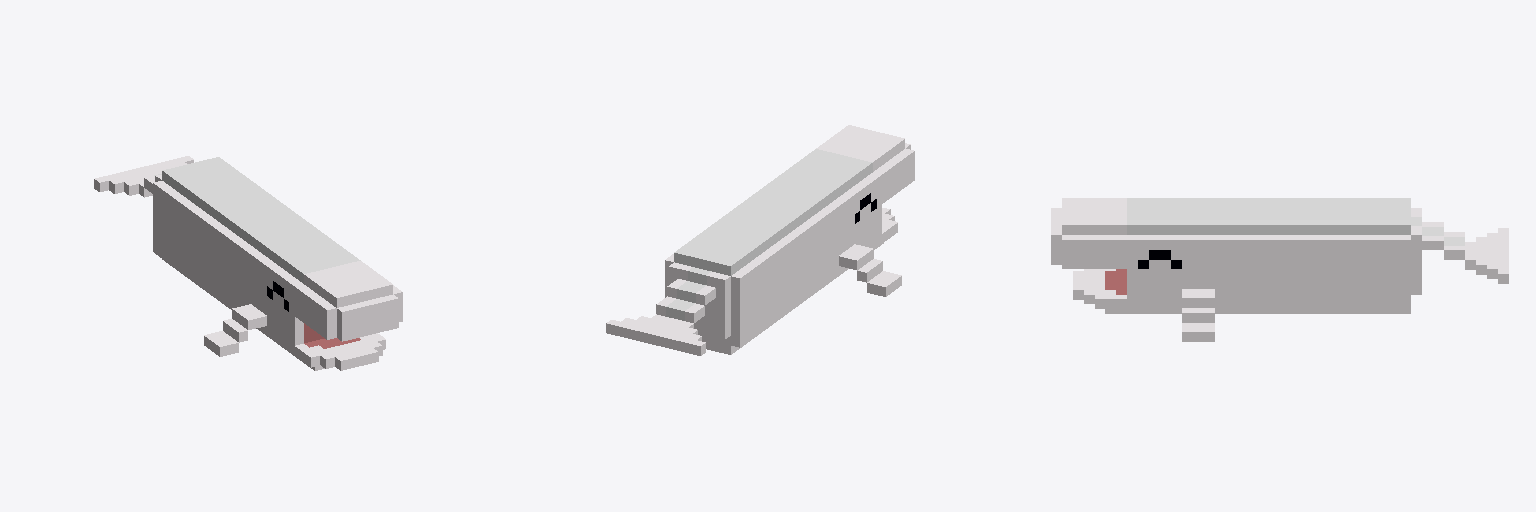
3 renders of one model, left to right at view 1: azimuth 30°, elevation 25°; view 2: azimuth 150°, elevation 25°; view 3: azimuth 270°, elevation 25°, orthographic.
Visible parts, largest first — view 1: pre_beluga_whale; view 2: pre_beluga_whale; view 3: pre_beluga_whale.
Part boxes in pixels (left/top/right/bottom): pre_beluga_whale: left=94, top=156, right=402, bottom=370; pre_beluga_whale: left=606, top=125, right=914, bottom=355; pre_beluga_whale: left=1051, top=198, right=1508, bottom=341.
Size of the model in its own units: 18 by 9 by 42.
Materials: 1 (1 with a texture image).